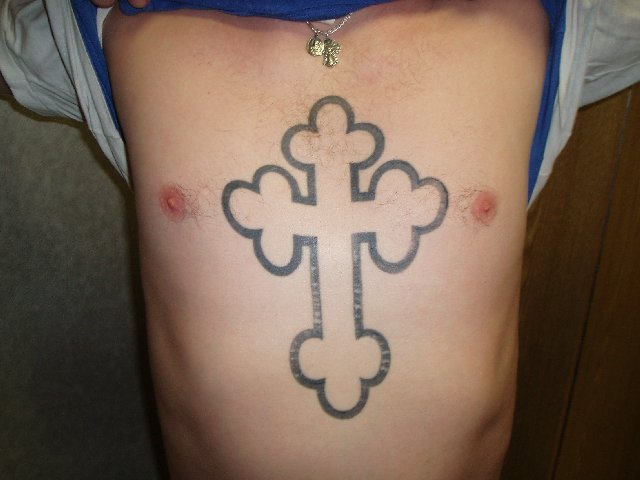tatu9_krest: (208, 90, 444, 431)
